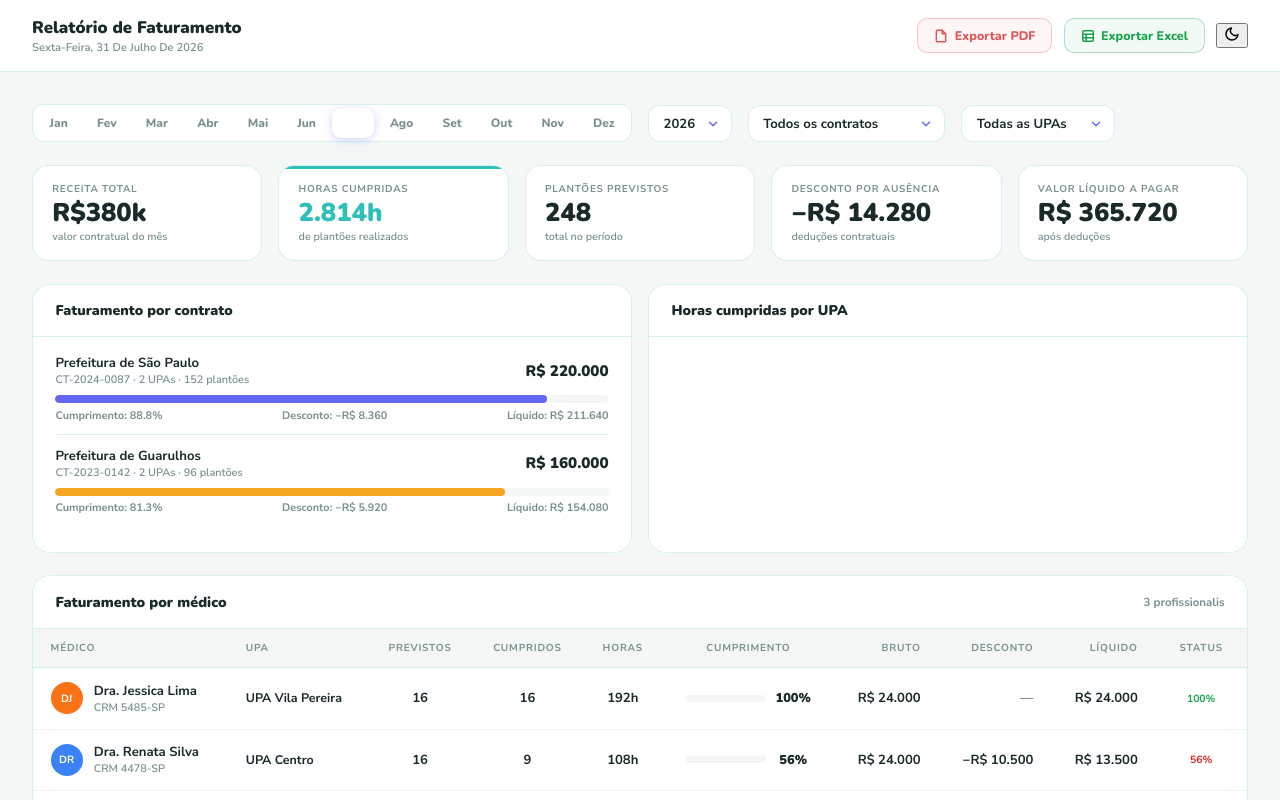
<AdminFaturamento /> › baixa o PDF e mostra toast de sucesso ao clicar em Exportar PDF
Expected: the text "Dra. Jessica Lima" is shown, [94,682,197,700]
Click the button "Exportar PDF" at (985, 36), box [917,18,1052,53]
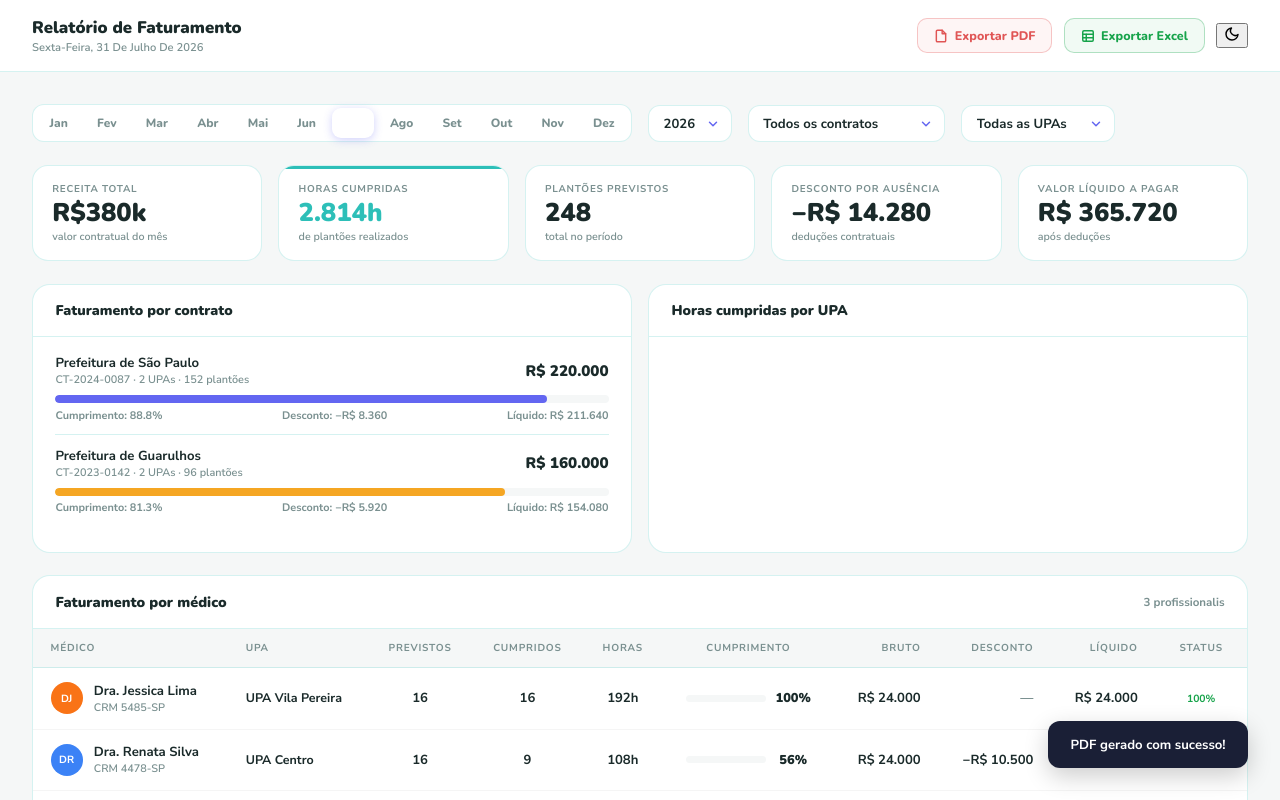
Now the text with class "fat-toast" shows "PDF gerado com sucesso", box [1070,736,1226,754]
